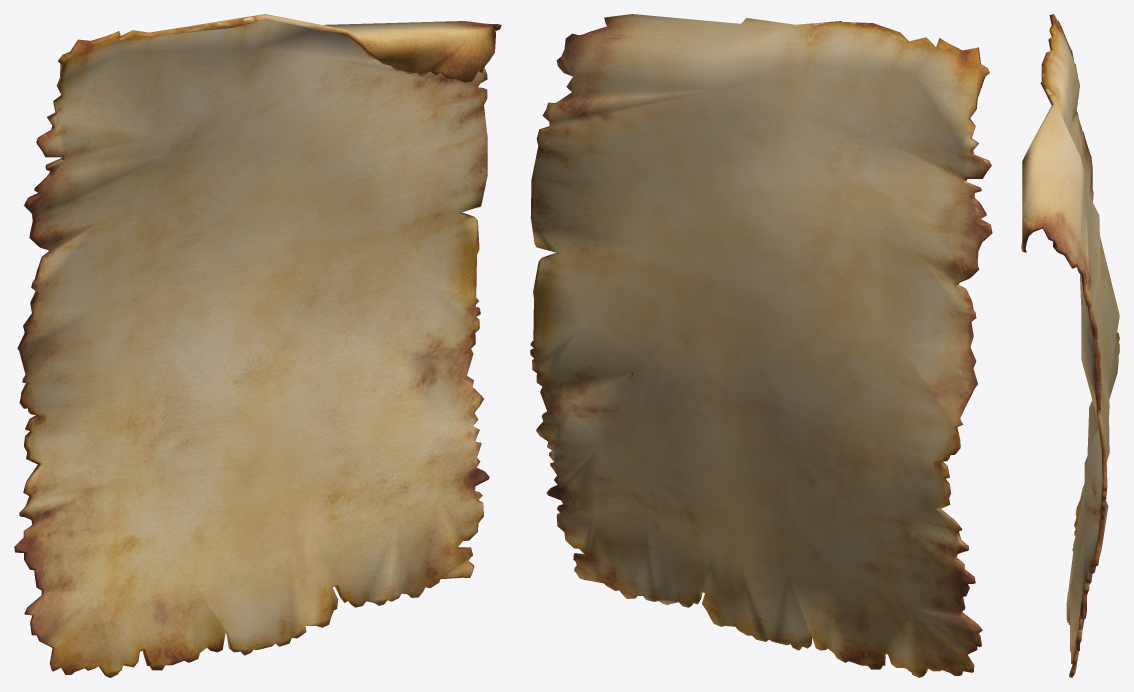
File: Paper.fbx
3 views of the same model, side by side, from view 1: azimuth 30°, elevation 25°; view 2: azimuth 150°, elevation 25°; view 3: azimuth 270°, elevation 25° (orthographic). The views are drawn at different scales.
Parts seen in each view (by area): view 1: tripo_node_610a8c16; view 2: tripo_node_610a8c16; view 3: tripo_node_610a8c16.
Boxes of the visible parts, x1,y1,x2,y2 form: tripo_node_610a8c16: (14, 14, 501, 677); tripo_node_610a8c16: (530, 14, 992, 677); tripo_node_610a8c16: (1021, 14, 1119, 677).
Bounding box in the file's own units: 72.65 × 97.95 × 16.68.
1 material, 1 textured.
